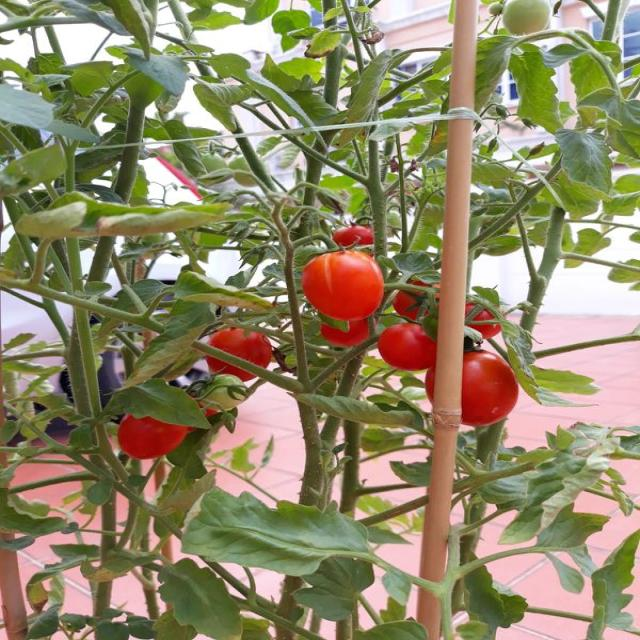damaged: (298, 244, 388, 320)
overripe: (428, 347, 519, 428), (117, 398, 191, 458), (207, 326, 274, 381), (378, 322, 442, 368), (319, 310, 376, 347)
